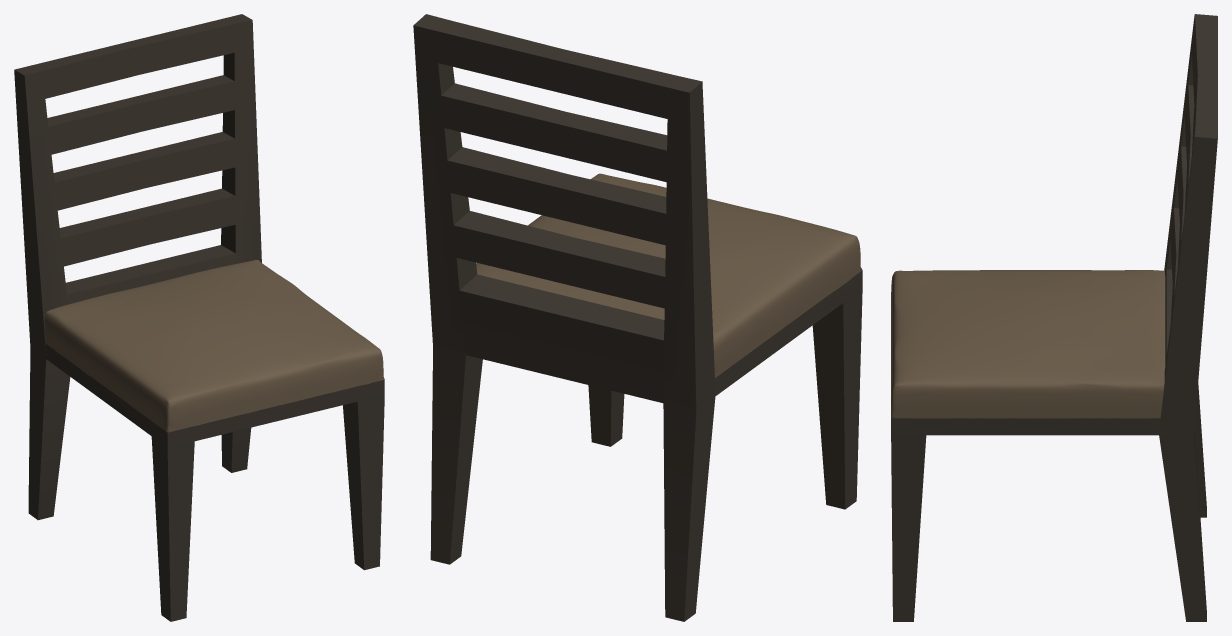
The model's file is Chair.fbx.
3 views of the same model, side by side, from view 1: azimuth 30°, elevation 25°; view 2: azimuth 150°, elevation 25°; view 3: azimuth 270°, elevation 25° (orthographic). The views are drawn at different scales.
Visible parts, largest first — view 1: polySurface1; view 2: polySurface1; view 3: polySurface1.
Part boxes in pixels (left/top/right/bottom): polySurface1: left=14, top=14, right=384, bottom=621; polySurface1: left=413, top=14, right=862, bottom=621; polySurface1: left=891, top=14, right=1217, bottom=621.
Bounding box in the file's own units: 1.3 × 2.45 × 1.46.
